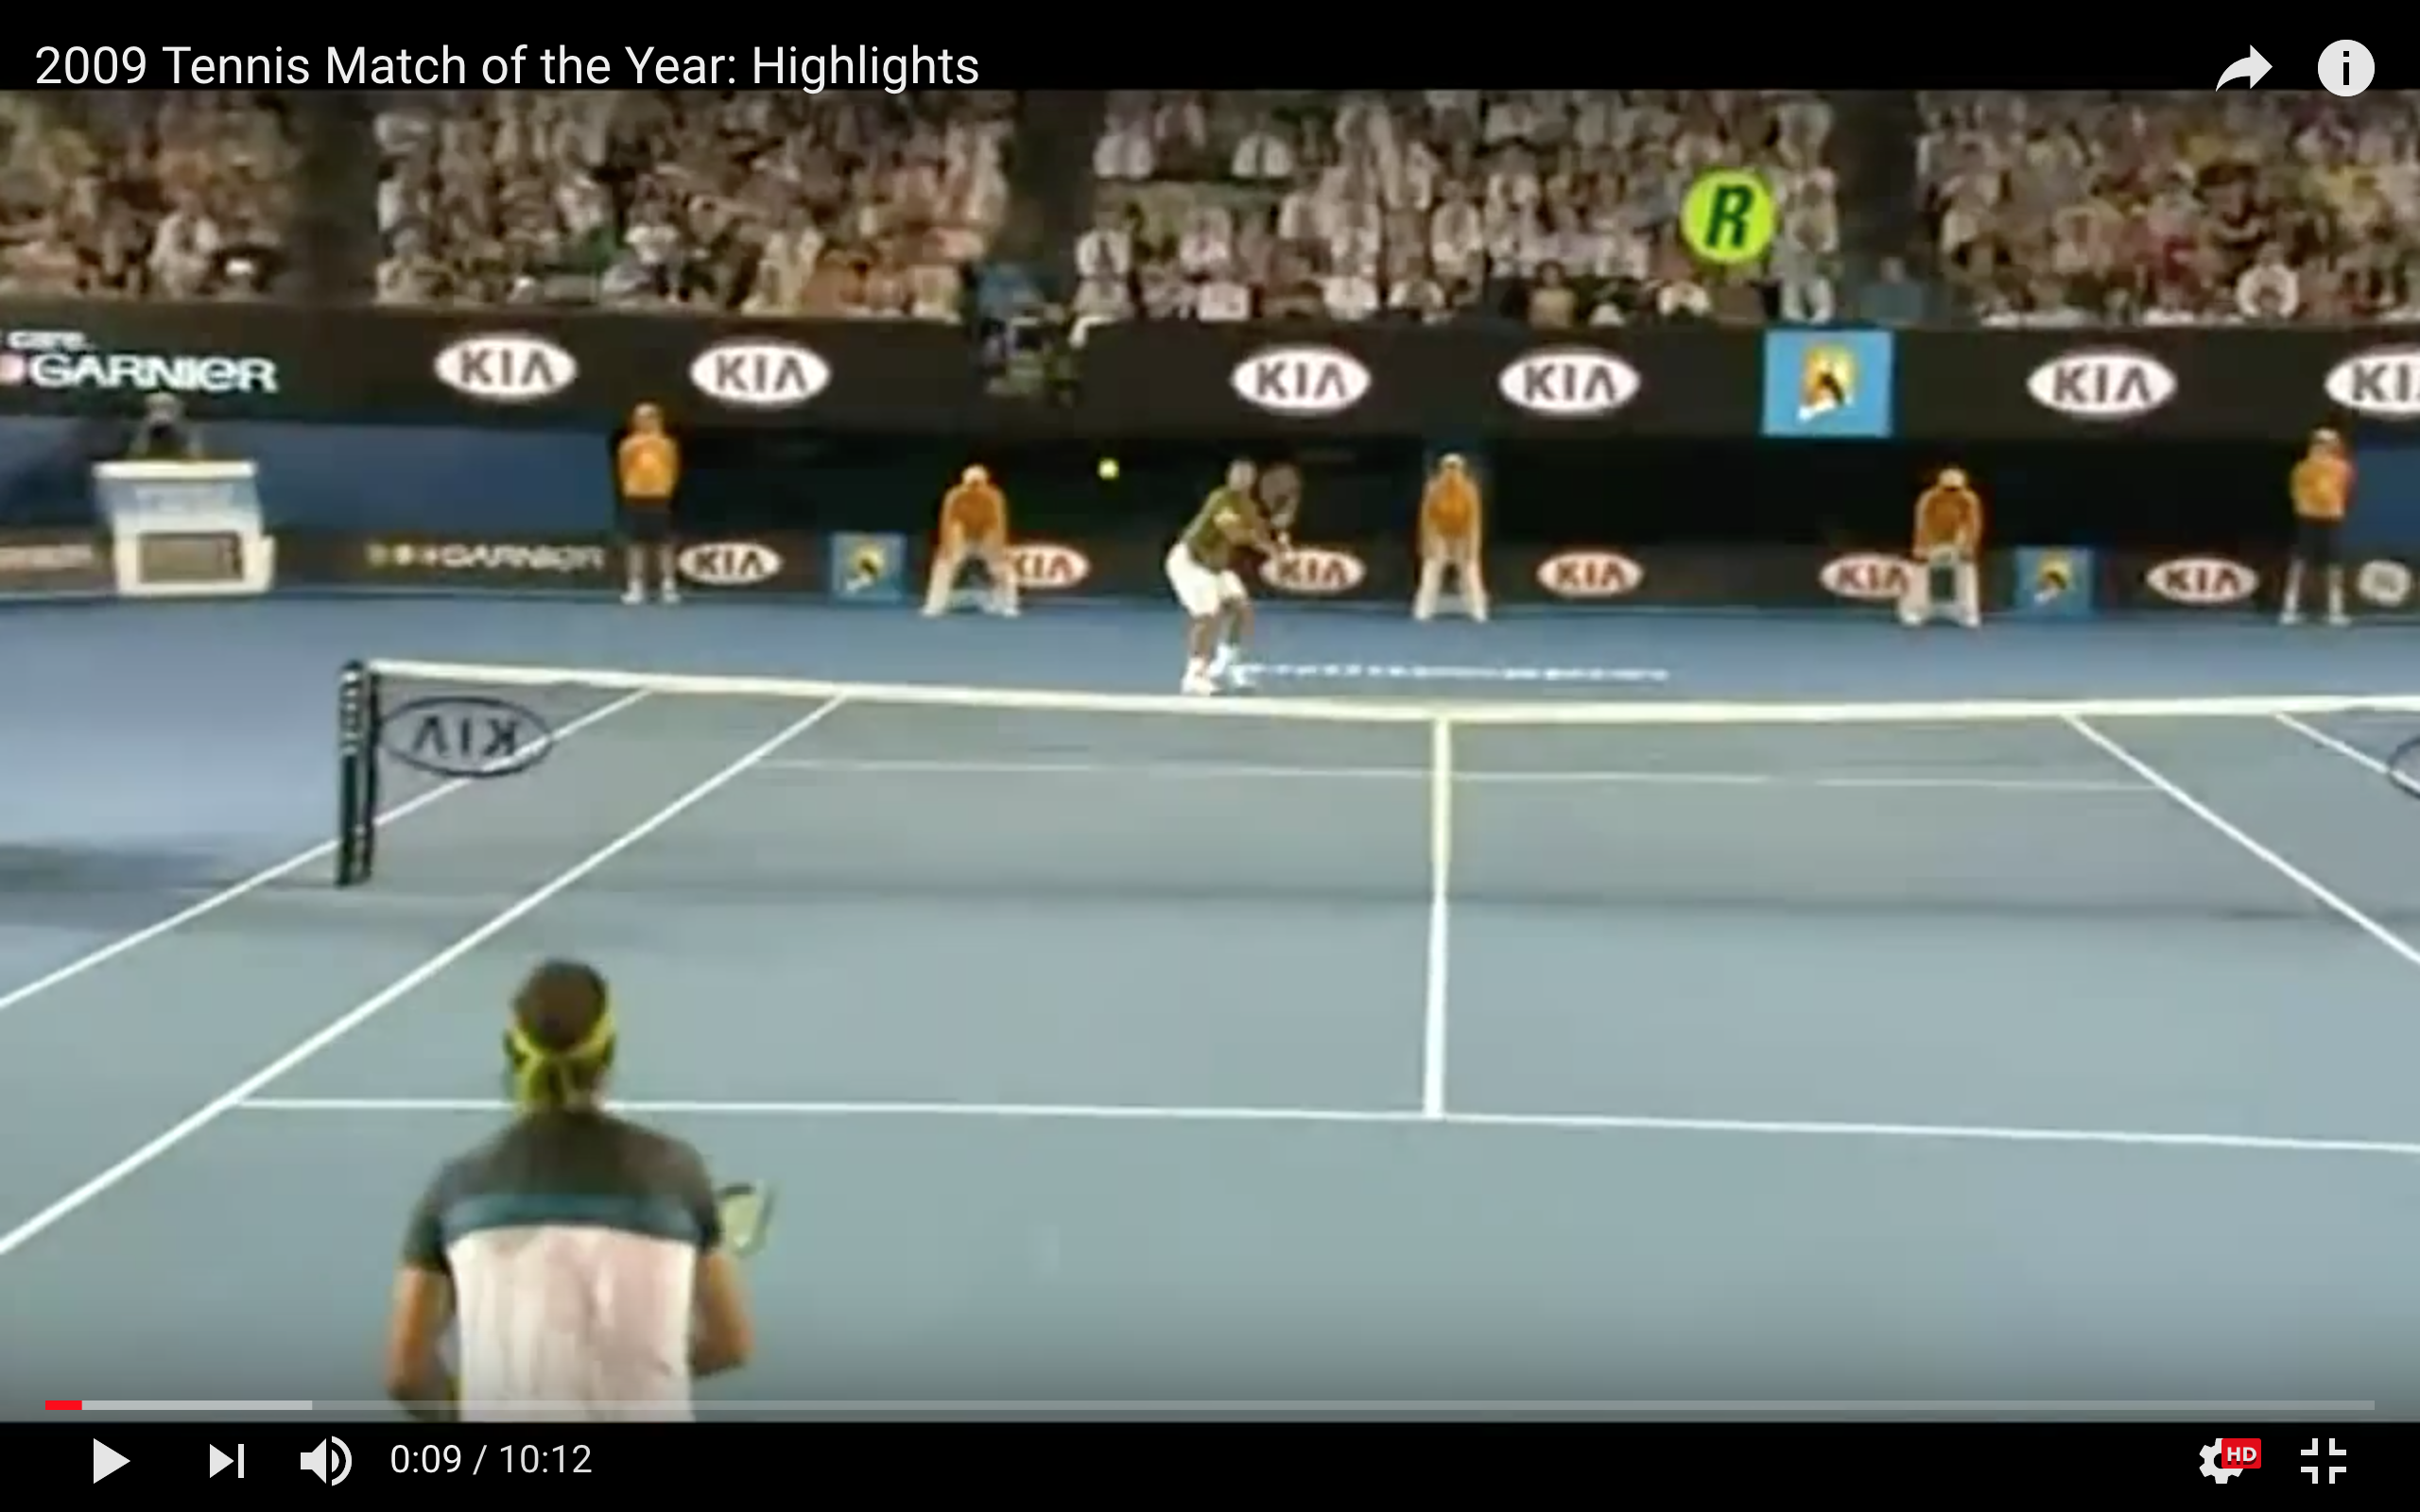tennis ball: (1094, 456, 1125, 485)
tennis player: (354, 942, 767, 1399), (1153, 455, 1296, 696)
